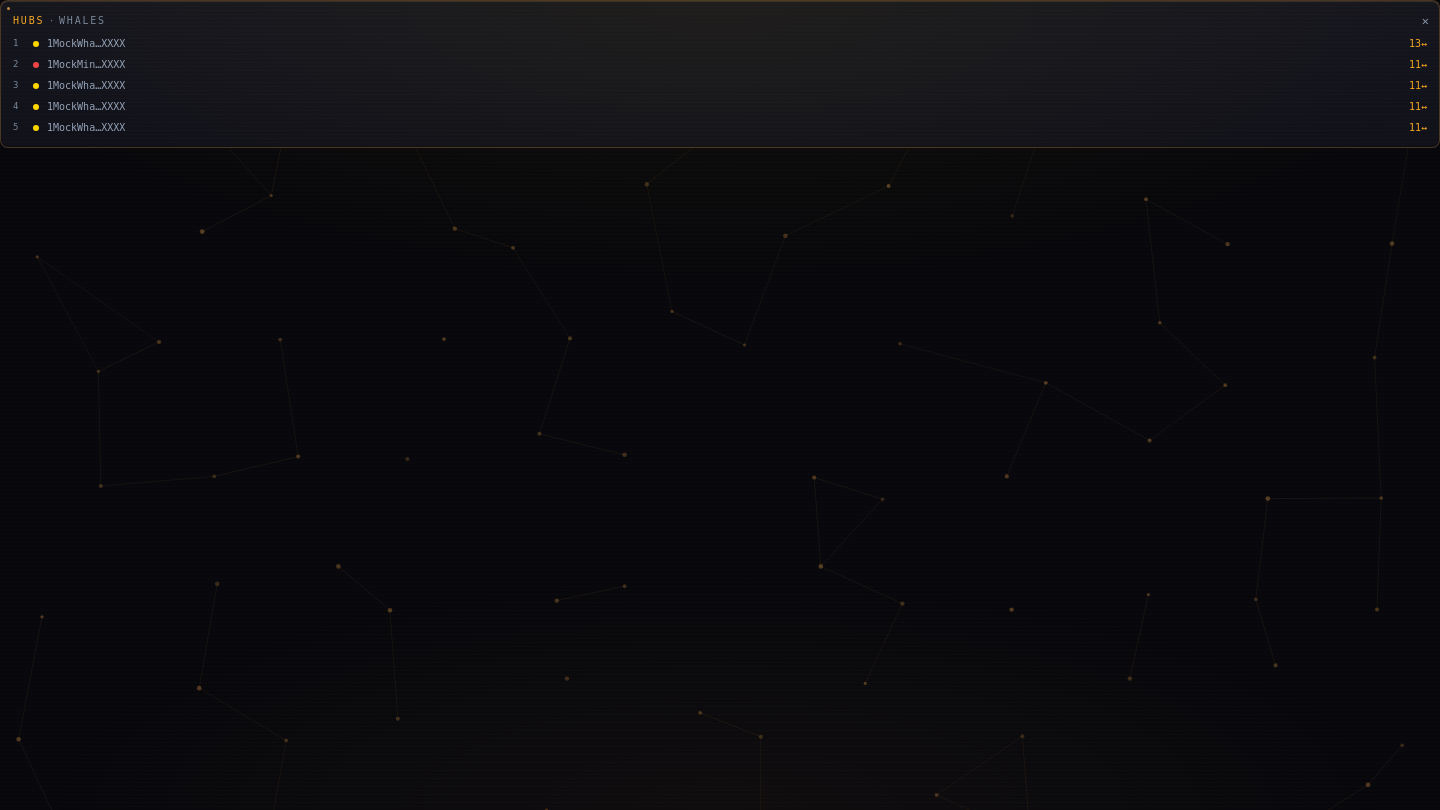
Test: <TopHubsChip> › switches to Whales view on click — shows BTC suffix
This screenshot has width=1440, height=810.
Click the button "Whales" at coordinates (82, 20), box [59,13,106,28]
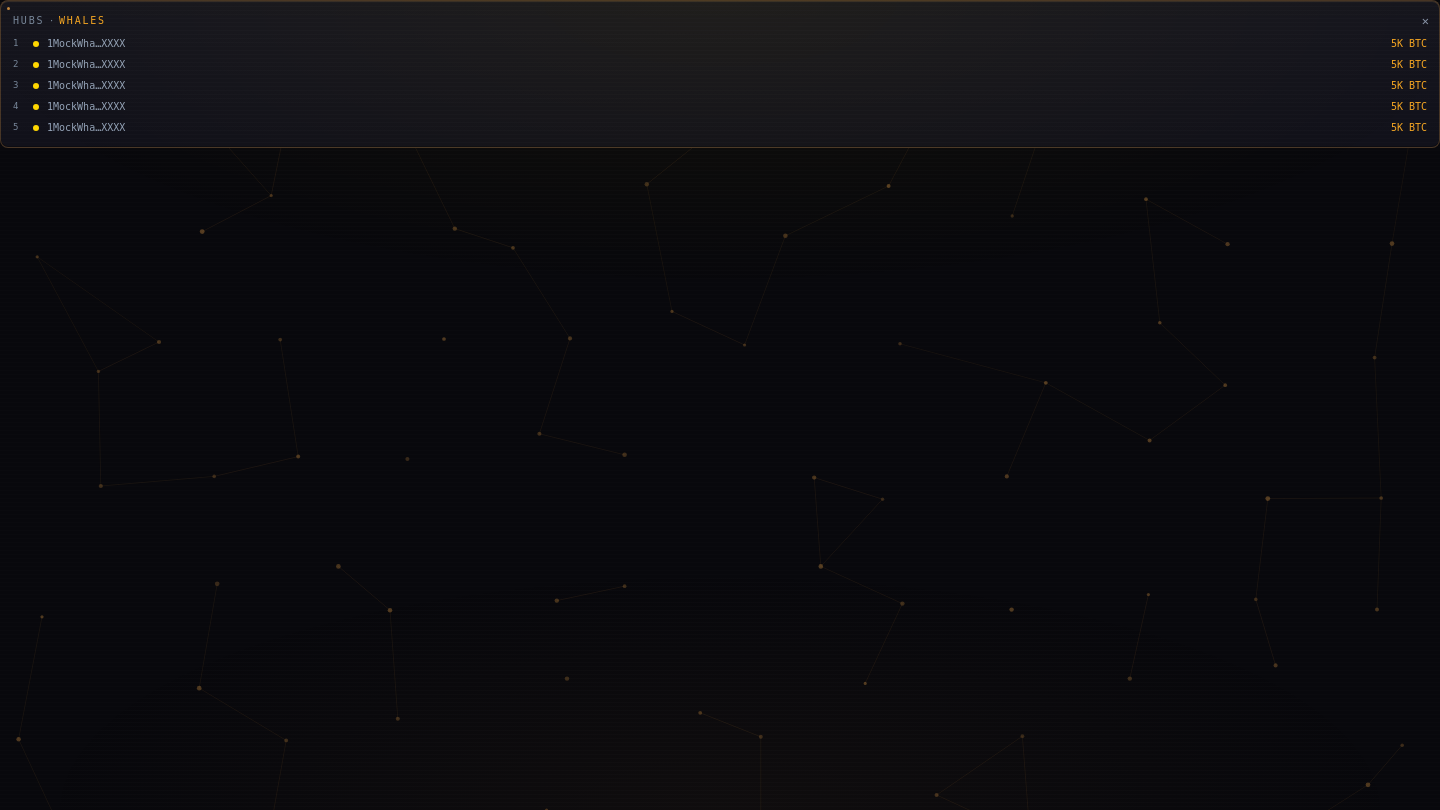
Check: the text "BTC" is shown, box [1391,38,1427,49]
